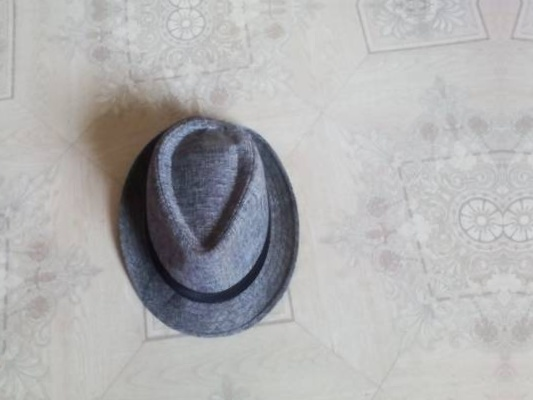Hat: (112, 95, 314, 349)
